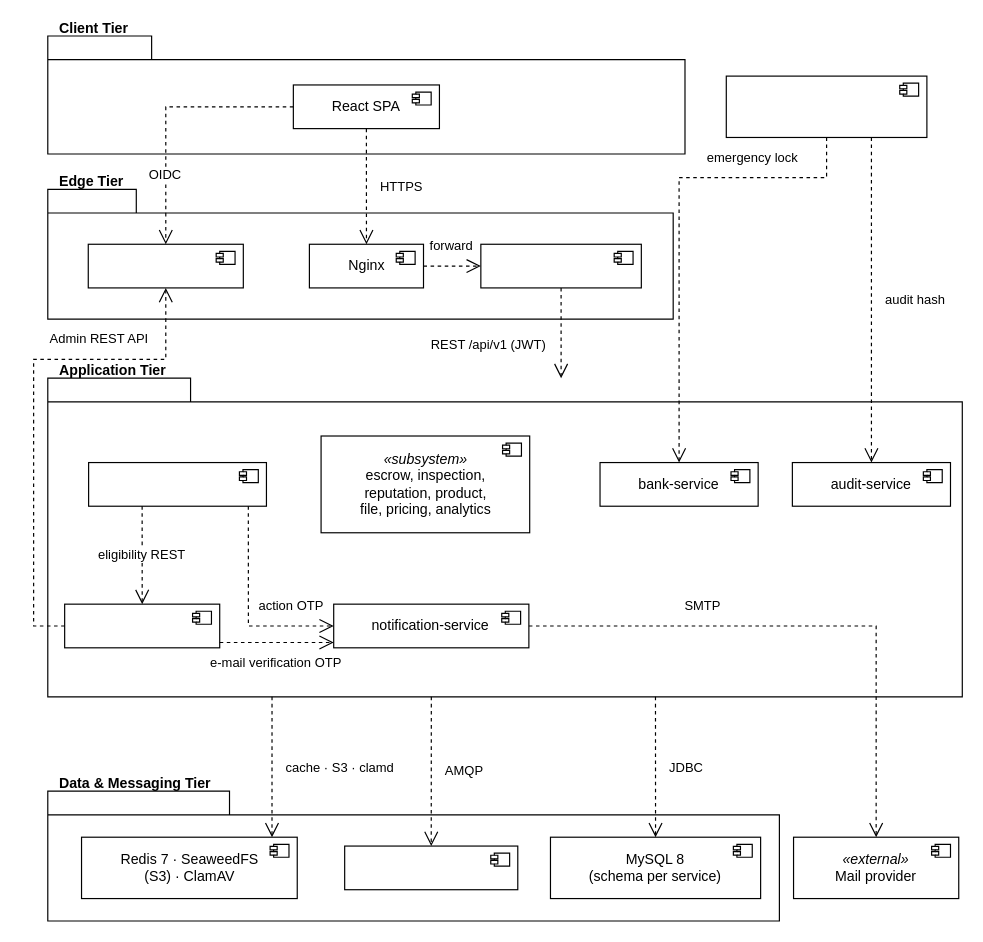
Some shapes in this 983 by 942 pixel diagram are drawn without their labels. Here are the shapes that lost their labels. From the top down, the centre of each, then its label:
(x=826, y=106): «external» External Verifier
(x=165, y=265): Keycloak 24
(x=560, y=265): API Gateway
(x=176, y=483): contract-service
(x=141, y=625): user-service
(x=430, y=867): RabbitMQ 3.13
